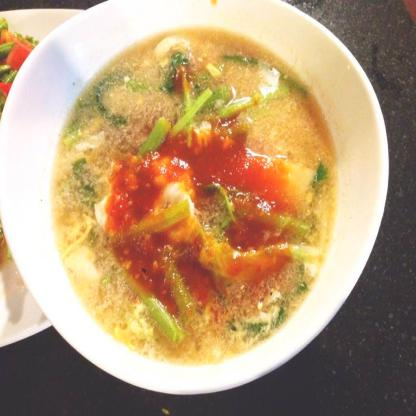Suki: (51, 26, 334, 386)
